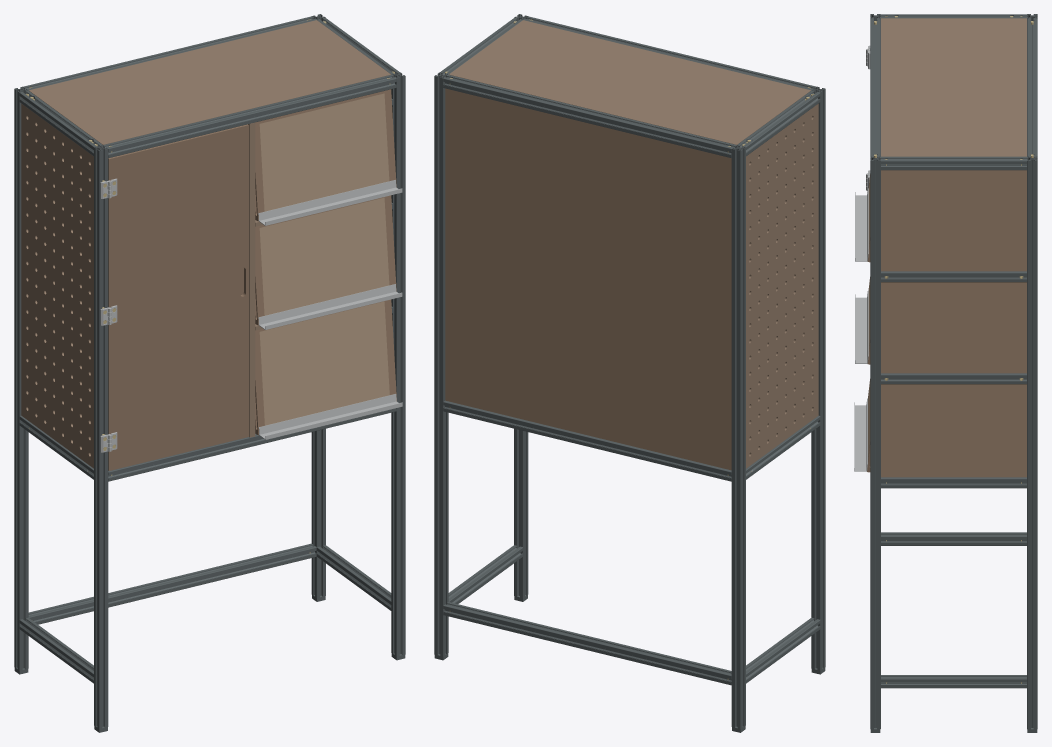
The model's file is cabinet-0.glb.
The picture shows the model from 3 angles, left to right: view 1: azimuth 30°, elevation 25°; view 2: azimuth 150°, elevation 25°; view 3: azimuth 270°, elevation 25°; orthographic projection.
Visible parts, largest first — view 1: Left-door-face-18, Left-pegboard-18, Top-18, Plywood-infill-6-1, Plywood-infill-6-2, Plywood-infill-6-3, Post-4-23, Post-966-23, Post-4-470, Beam-top-front, Beam-lower-rear, Post-966-470 (+17 smaller); view 2: Back-infill-8, Left-pegboard-18, Top-18, Post-4-470, Post-966-470, Post-4-23, Beam-top-rear, Beam-lower-rear, Beam-body-rear, Post-966-23, Beam-top-front, Beam-top-side-4 (+4 smaller); view 3: Top-18, Right-infill-8-3, Right-infill-8-1, Right-infill-8-2, Post-966-470, Post-966-23, Beam-top-side-966, Beam-lower-side-966, Beam-lower-side-4, Beam-body-side-966, Beam-right-shelf-1, Beam-right-shelf-2 (+6 smaller).
Boxes of the visible parts, box(x1,y1,x2,y2) form: Left-door-face-18: box(108, 124, 248, 470); Left-pegboard-18: box(21, 103, 93, 468); Top-18: box(29, 20, 390, 144); Plywood-infill-6-1: box(259, 301, 389, 425); Plywood-infill-6-2: box(259, 197, 389, 315); Plywood-infill-6-3: box(259, 93, 389, 211); Post-4-23: box(94, 145, 108, 729); Post-966-23: box(391, 72, 405, 656); Post-4-470: box(14, 86, 28, 670); Beam-top-front: box(104, 74, 396, 158); Beam-lower-rear: box(28, 543, 316, 624); Post-966-470: box(311, 14, 325, 598); Back-infill-8: box(445, 88, 731, 470); Left-pegboard-18: box(746, 103, 818, 468); Top-18: box(449, 20, 810, 144); Post-4-470: box(731, 145, 745, 729); Post-966-470: box(434, 72, 448, 656); Post-4-23: box(811, 86, 825, 670); Beam-top-rear: box(443, 74, 735, 158); Beam-lower-rear: box(443, 602, 731, 685); Beam-body-rear: box(443, 400, 731, 481); Post-966-23: box(514, 14, 528, 598); Beam-top-front: box(523, 16, 815, 90); Beam-top-side-4: box(737, 90, 820, 156); Top-18: box(881, 18, 1026, 156); Right-infill-8-3: box(881, 170, 1026, 271); Right-infill-8-1: box(881, 384, 1026, 477); Right-infill-8-2: box(881, 282, 1026, 373); Post-966-470: box(1027, 156, 1037, 729); Post-966-23: box(870, 156, 880, 729); Beam-top-side-966: box(881, 156, 1026, 170); Beam-lower-side-966: box(881, 675, 1026, 688); Beam-lower-side-4: box(881, 532, 1026, 545); Beam-body-side-966: box(881, 477, 1026, 488); Beam-right-shelf-1: box(881, 373, 1026, 384); Beam-right-shelf-2: box(881, 271, 1026, 282).
Bounding box in the file's own units: 0.992 × 1.8 × 0.5224.
